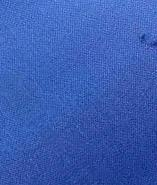knot: (137, 30, 157, 53)
